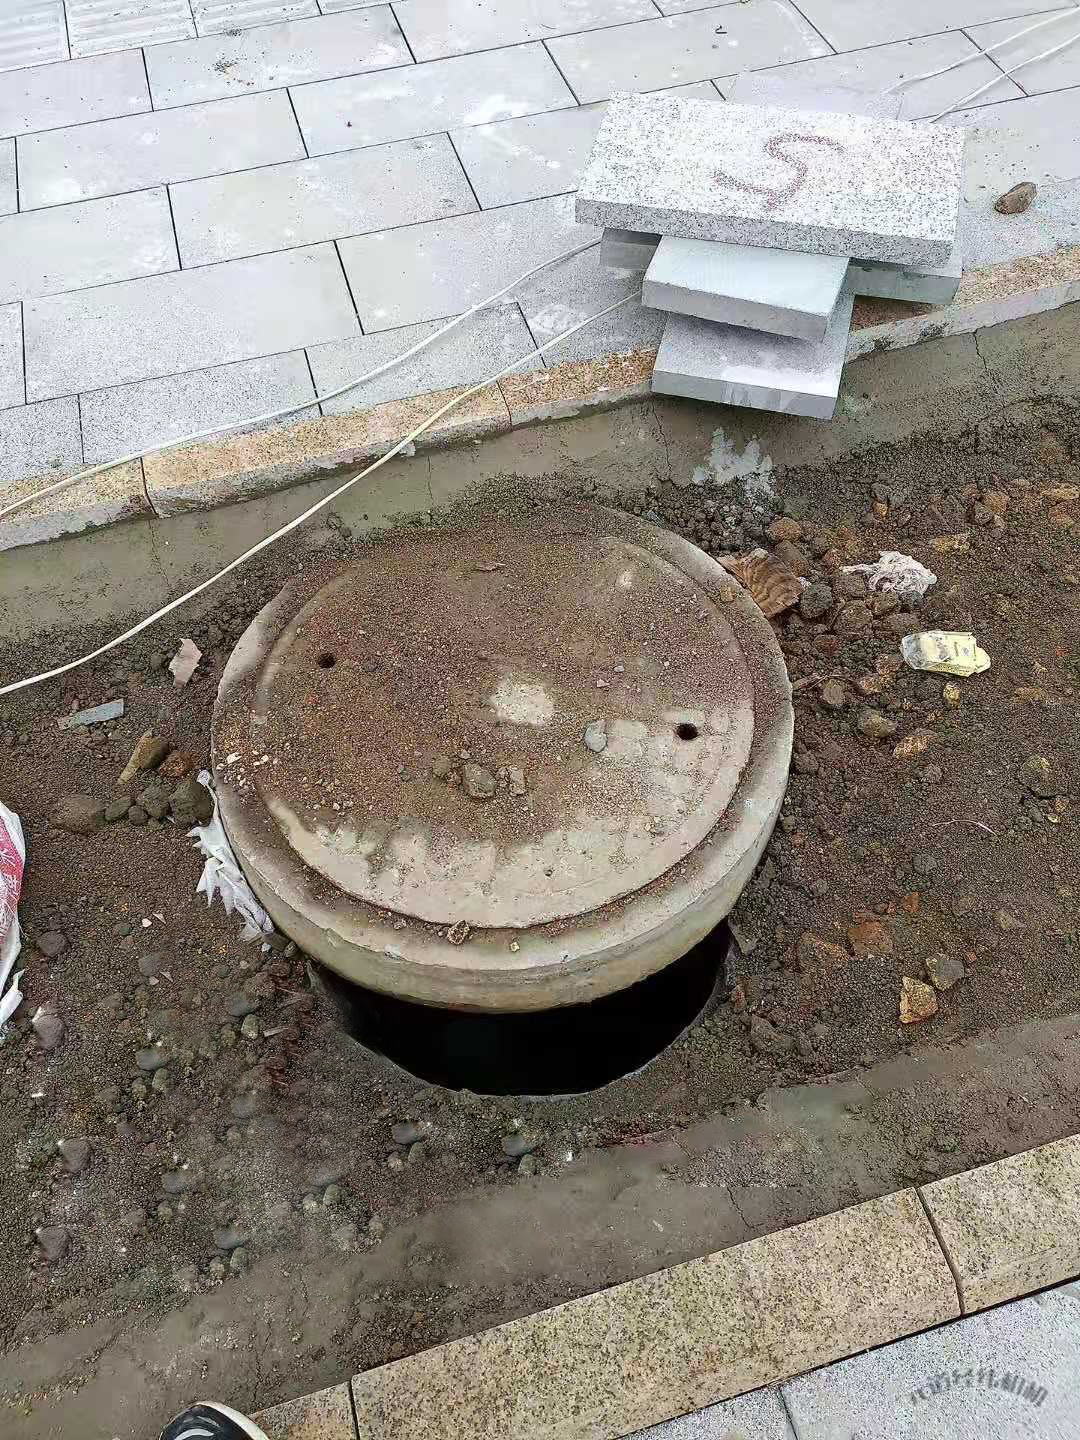uncovered: (214, 494, 811, 1099)
